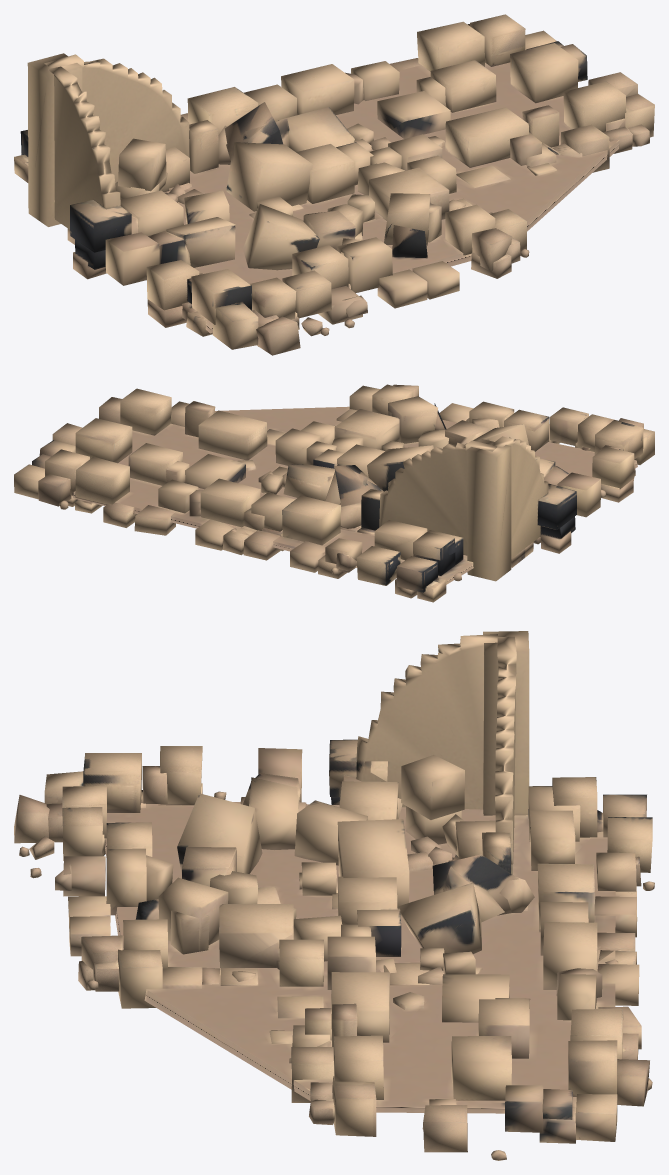
Rendered from meshy-c7-d4.glb.
3 renders of one model, top to bottom at view 1: azimuth 30°, elevation 25°; view 2: azimuth 150°, elevation 25°; view 3: azimuth 270°, elevation 25°, orthographic. The views are drawn at different scales.
Bounding box in the file's own units: 1 × 0.2673 × 0.7856.
Materials: 1 (1 with a texture image).
